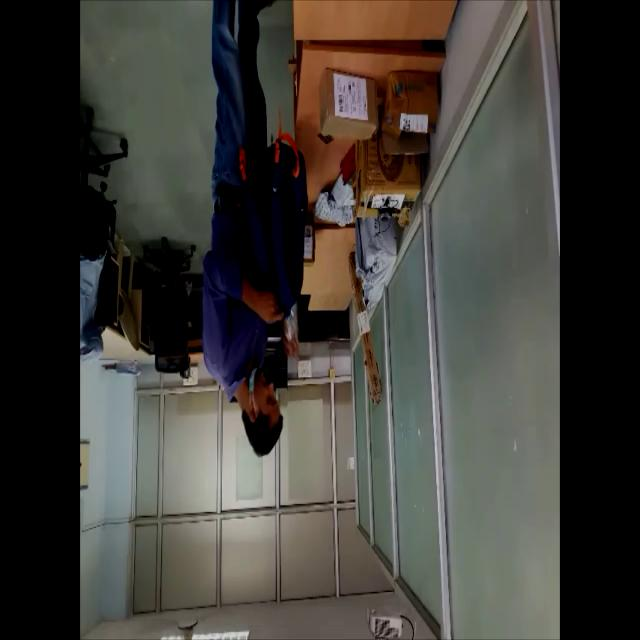shoplifting: (195, 0, 310, 470)
